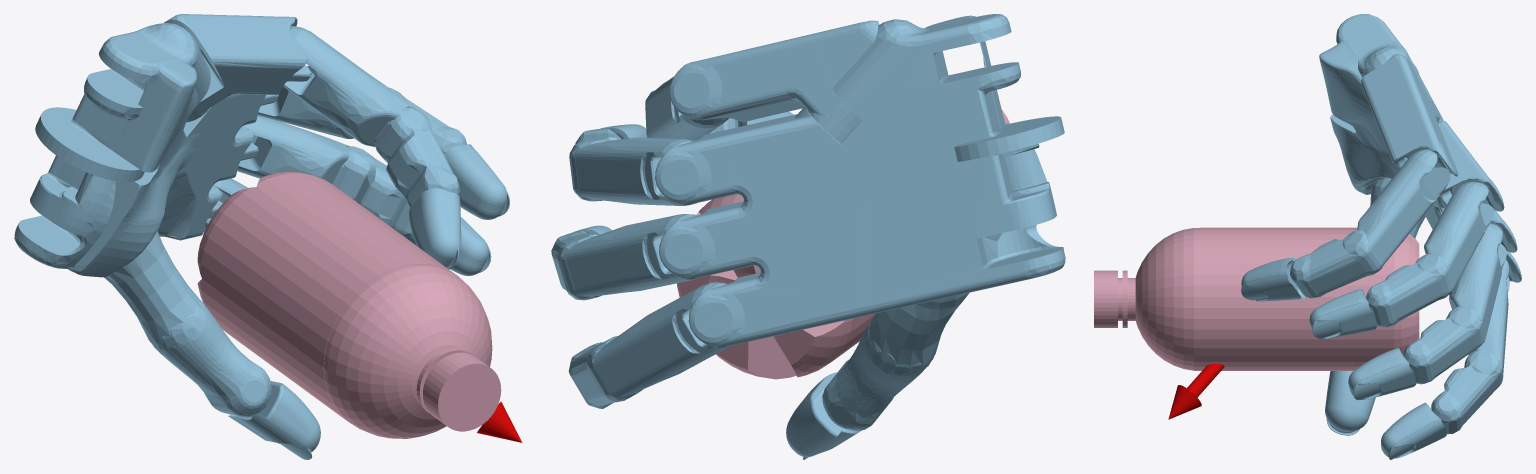
3 views of the same model, side by side, from view 1: azimuth 30°, elevation 25°; view 2: azimuth 150°, elevation 25°; view 3: azimuth 270°, elevation 25° (orthographic). The views are drawn at different scales.
Parts seen in each view (by area): view 1: world, water_bottle.stl; view 2: world, water_bottle.stl; view 3: world, water_bottle.stl.
Boxes of the visible parts, left/top/right/bottom form: world: left=14, top=14, right=522, bottom=459; water_bottle.stl: left=197, top=172, right=501, bottom=438; world: left=551, top=14, right=1065, bottom=459; water_bottle.stl: left=676, top=109, right=1009, bottom=379; world: left=1168, top=14, right=1521, bottom=459; water_bottle.stl: left=1094, top=227, right=1419, bottom=370.
Bounding box in the file's own units: 0.1713 × 0.1635 × 0.1795.
